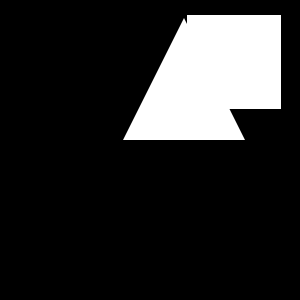circle: (187, 15, 281, 109)
triangle: (123, 18, 245, 140)
